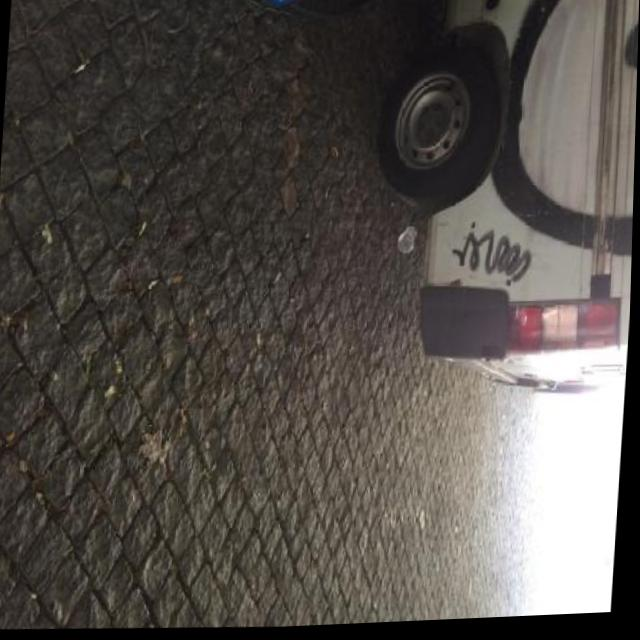plastic: (398, 223, 417, 252)
